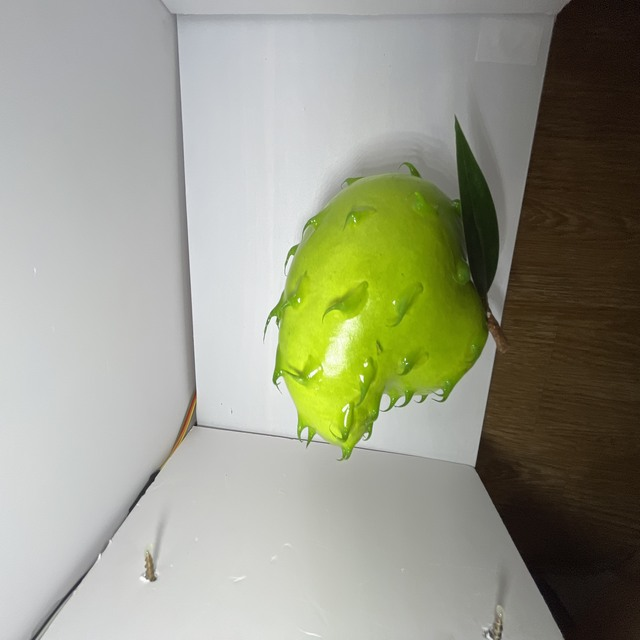Man cau: (262, 161, 521, 468)
